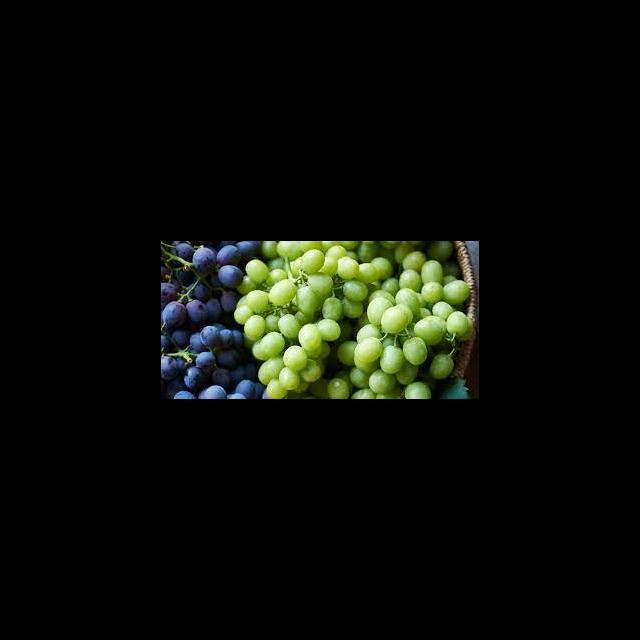grape: (161, 241, 473, 398)
